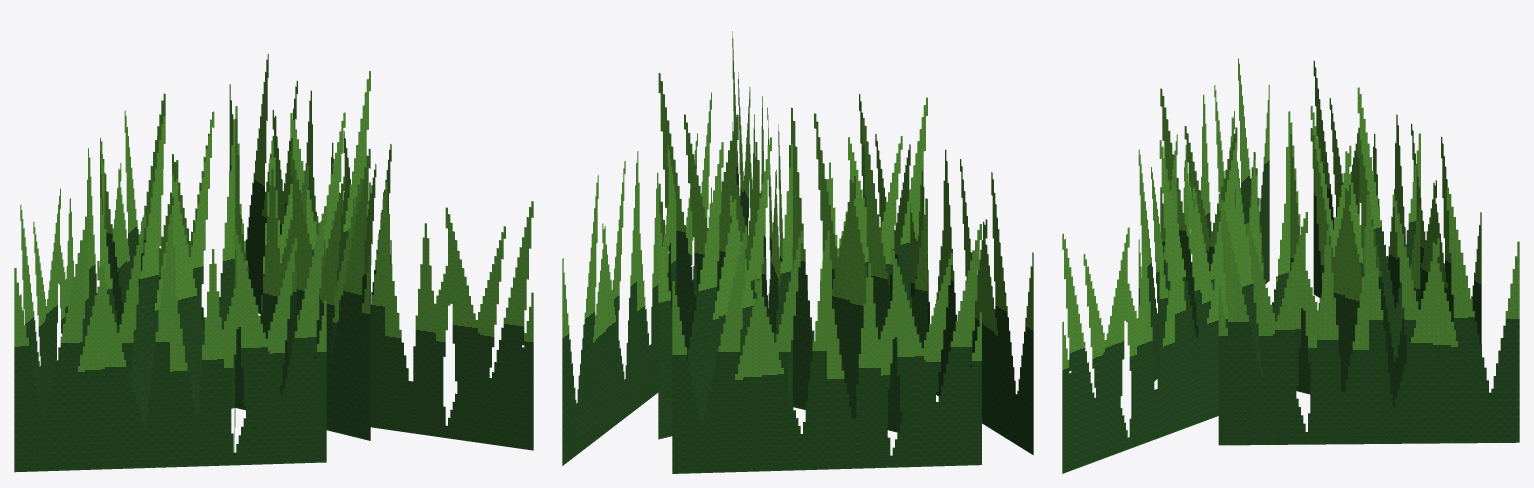
Rendered from mato_alto_folhagem_densa.glb.
3 views of the same model, side by side, from view 1: azimuth 30°, elevation 25°; view 2: azimuth 150°, elevation 25°; view 3: azimuth 270°, elevation 25° (orthographic). The views are drawn at different scales.
Parts seen in each view (by area): view 1: mato_alto_folhagem_densa; view 2: mato_alto_folhagem_densa; view 3: mato_alto_folhagem_densa.
Part boxes in pixels (x1,y1,x2,y2): mato_alto_folhagem_densa: [14, 54, 533, 472]; mato_alto_folhagem_densa: [562, 31, 1033, 473]; mato_alto_folhagem_densa: [1062, 58, 1519, 473].
Size of the model in its own units: 1.28 by 0.96 by 1.28.
Materials: 1 (1 with a texture image).
